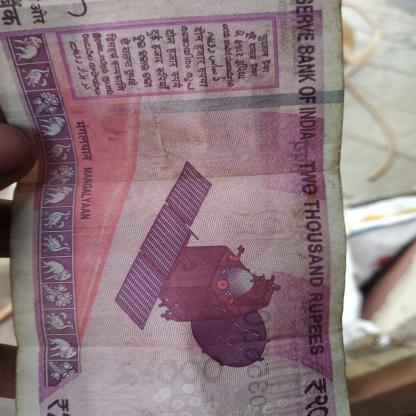New2000Back: (2, 0, 345, 415)
